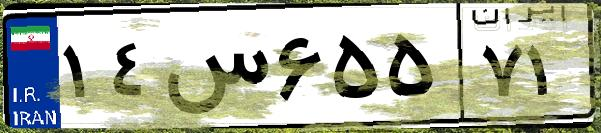1: (57, 26, 110, 100), (525, 38, 570, 115)
4: (110, 28, 158, 98)
5: (385, 28, 445, 110), (330, 28, 385, 110)
6: (270, 28, 330, 110)
7: (475, 38, 525, 113)
س: (158, 20, 270, 120)
